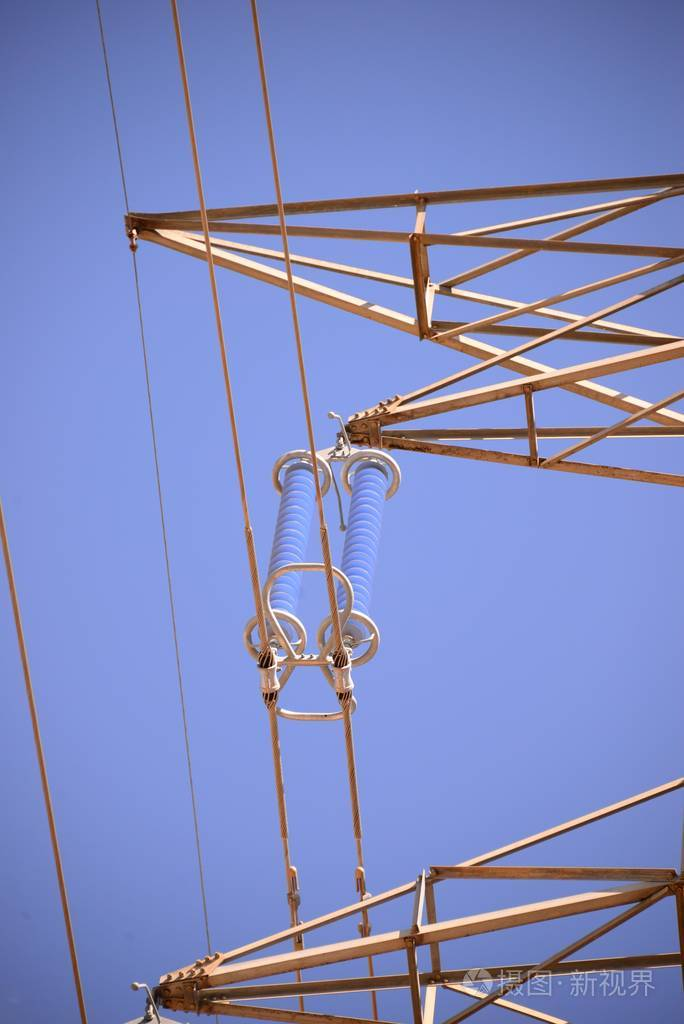insulator: (329, 467, 388, 630), (265, 466, 316, 635)
